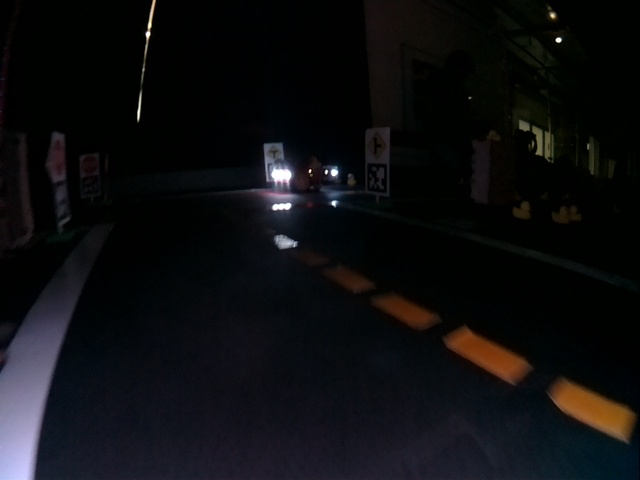Duckie: (513, 202, 531, 219), (486, 131, 500, 141)
Duckiebot: (272, 159, 312, 192)
Intersection sign: (367, 131, 387, 154), (266, 146, 282, 159)
QR code: (366, 162, 388, 192), (54, 186, 70, 223), (80, 176, 99, 198)
Stop sign: (81, 155, 97, 174)
